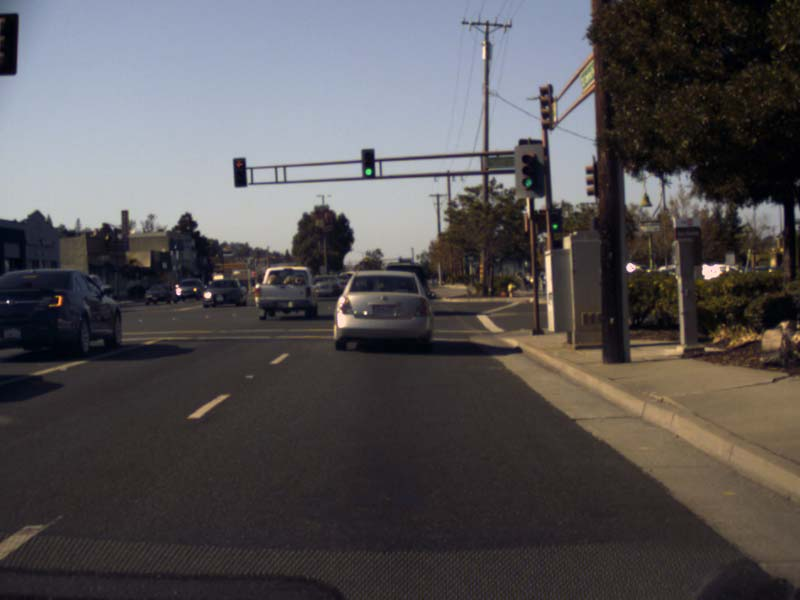Green: (514, 146, 543, 196), (361, 148, 376, 178), (549, 208, 561, 232)
Red: (232, 157, 247, 186)
